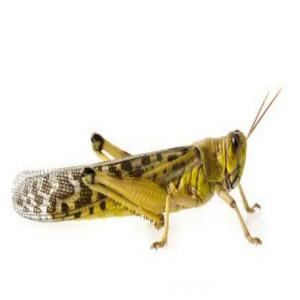locust: (13, 112, 272, 239)
